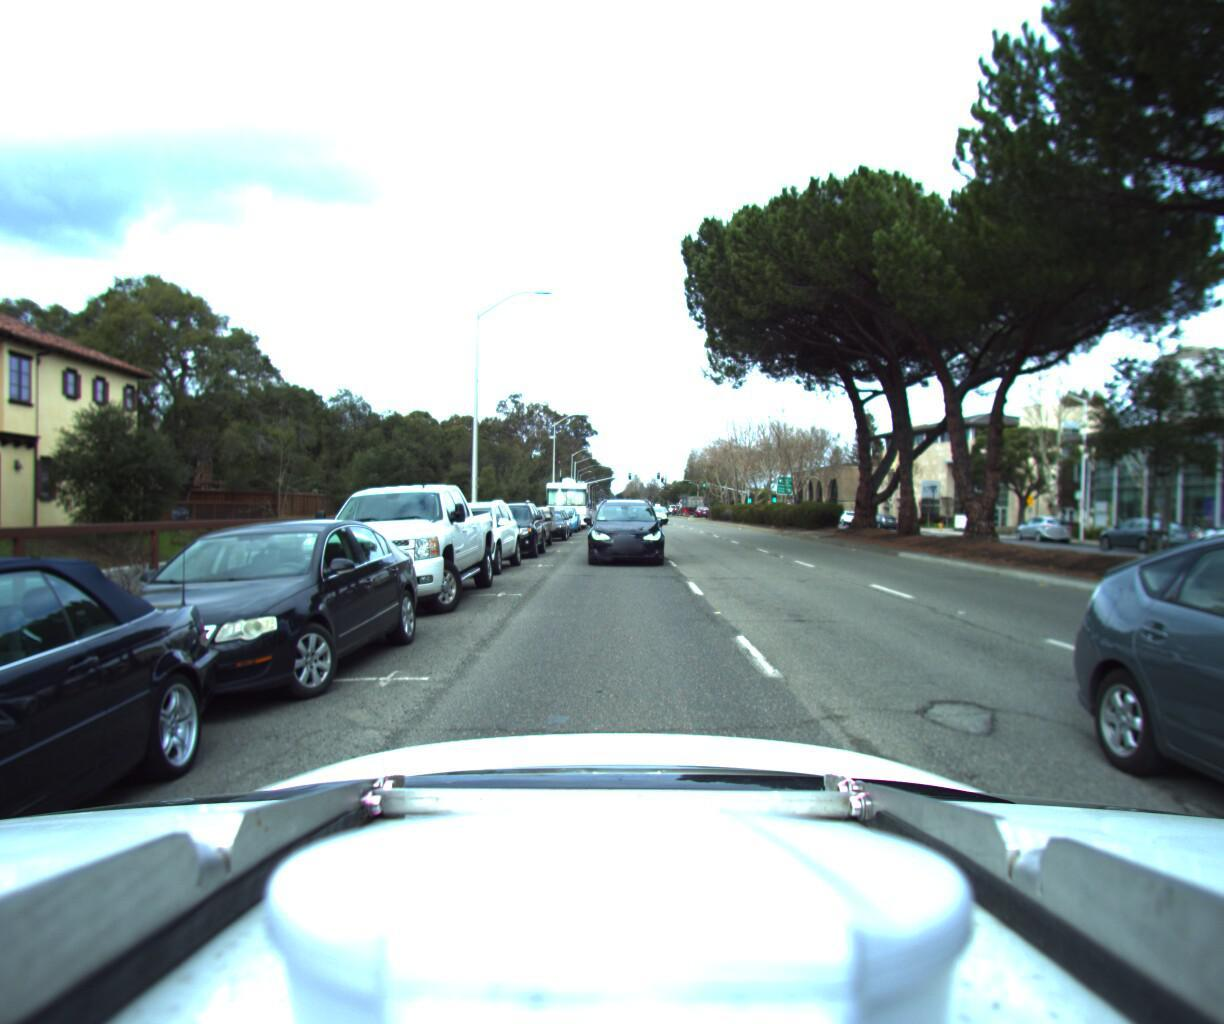bus: (542, 472, 589, 521)
car: (0, 536, 246, 1024), (24, 506, 435, 731), (303, 471, 499, 616), (1202, 513, 1224, 1024), (415, 487, 519, 574), (583, 489, 661, 562), (473, 491, 546, 558), (1074, 508, 1182, 545), (491, 498, 554, 545), (1183, 508, 1224, 556), (1009, 508, 1074, 537), (526, 500, 567, 537), (545, 498, 582, 527)
